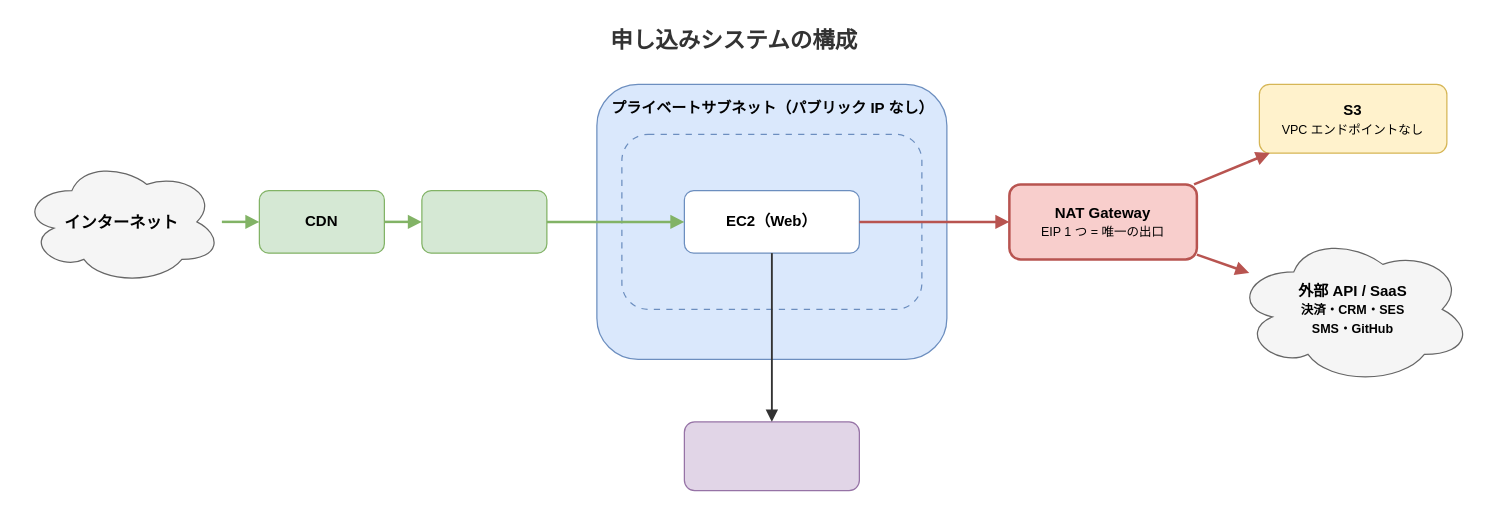
Image size: 1494x513. Some labels were removed from this diagram. Here are the shapes that lost their labels. From the top down, the box of each, then its label:
(421, 189, 547, 253): ALB
(621, 133, 922, 309): Auto Scaling グループ（通常 1 台・最大 2 台）
(683, 421, 859, 491): RDS Multi-AZ
